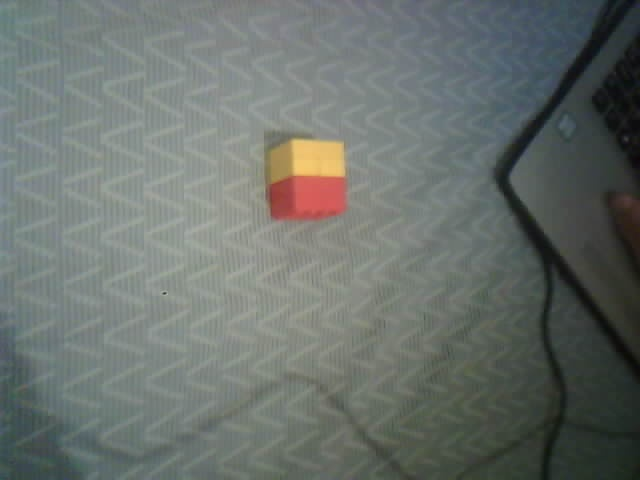lego: (265, 137, 347, 221)
